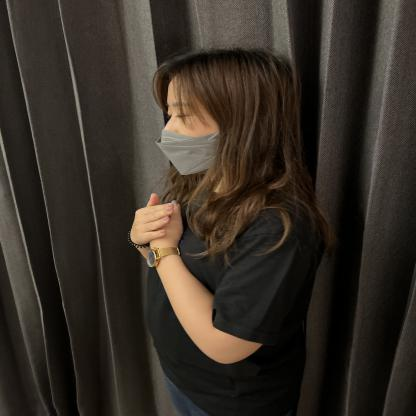Grieve: (78, 173, 204, 266)
